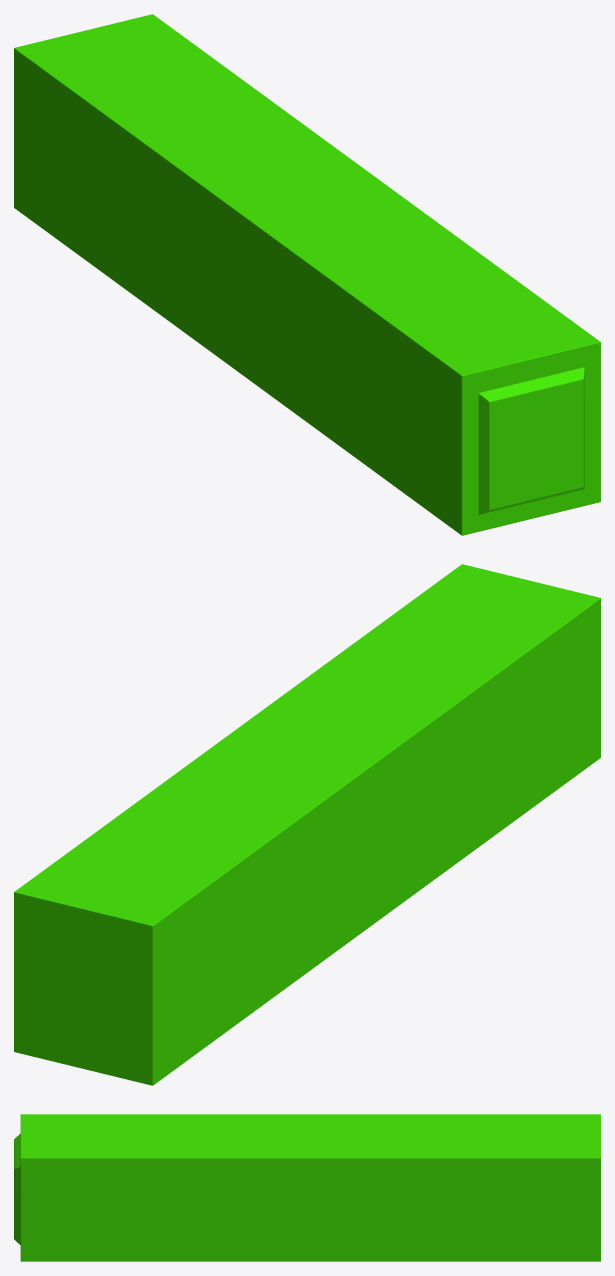
The model's file is Truck_Storage_01.fbx.
The picture shows the model from 3 angles, top to bottom: view 1: azimuth 30°, elevation 25°; view 2: azimuth 150°, elevation 25°; view 3: azimuth 270°, elevation 25°; orthographic projection. The views are drawn at different scales.
Visible parts, largest first — view 1: Truck_Storage_01; view 2: Truck_Storage_01; view 3: Truck_Storage_01.
Part boxes in pixels (box(x1,y1,x2,y2)): Truck_Storage_01: box(14, 14, 600, 535); Truck_Storage_01: box(14, 564, 600, 1085); Truck_Storage_01: box(14, 1114, 600, 1261).
Size of the model in its own units: 291 by 320 by 1639.
